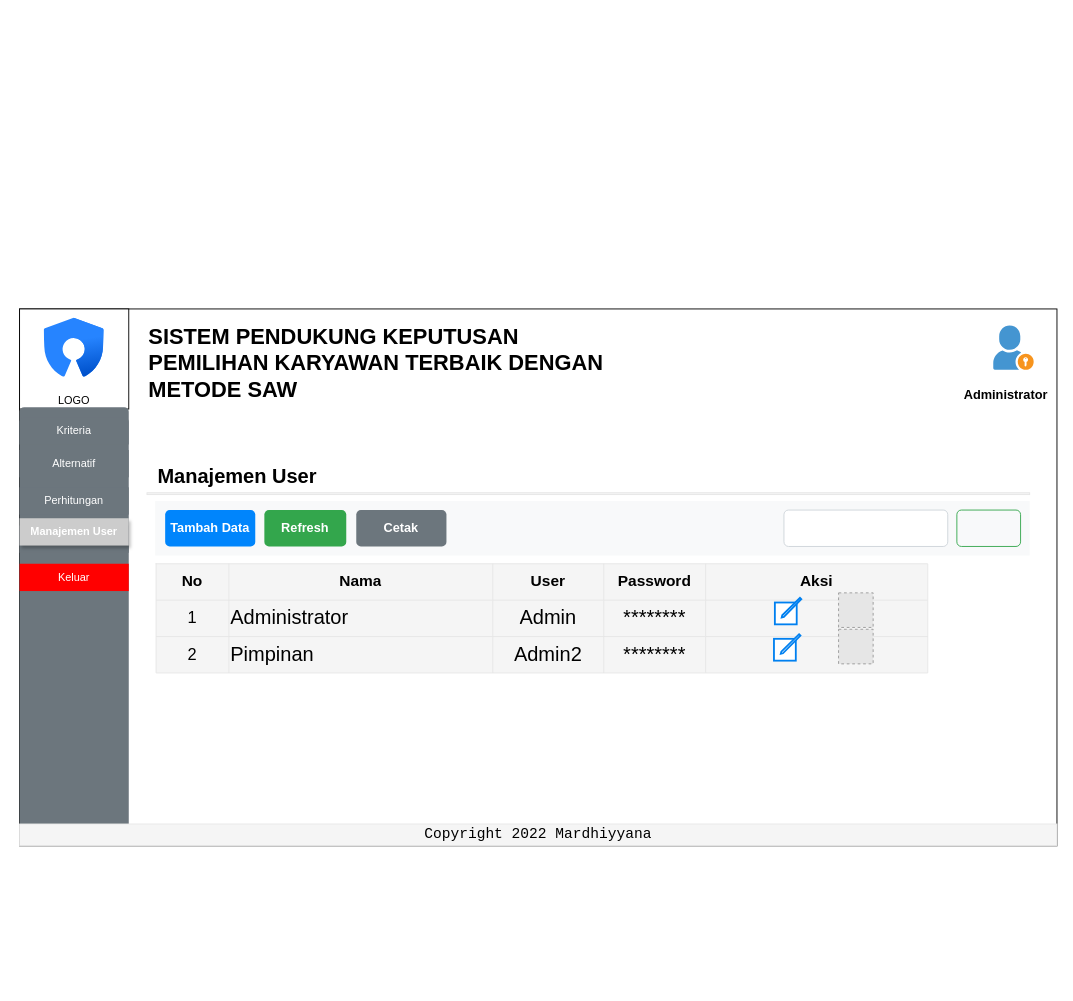
This 1073x1001 diagram has some shape labels left out. Grey dashed boxes stand in for pictures. Here are the shapes that lost their labels. From the top down, the centre of each, then its label:
At (865,527): "Pencarian".
At (988,527): "Search".
